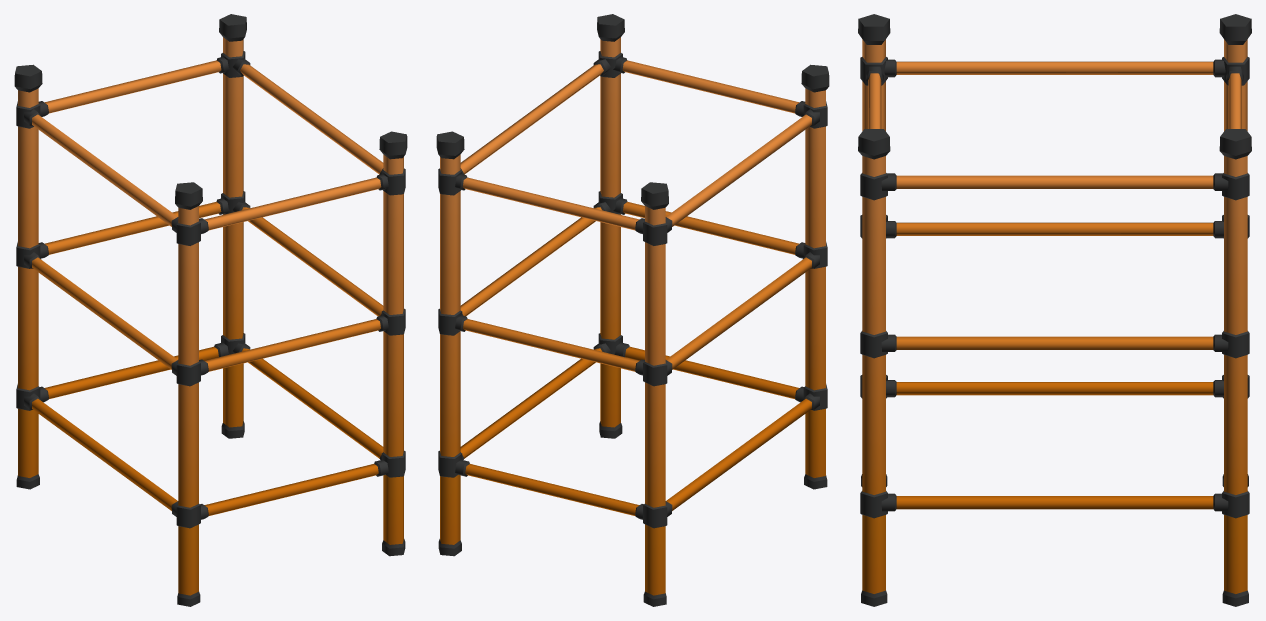
The model's file is Scaffolding_B_1.glb.
The picture shows the model from 3 angles, left to right: view 1: azimuth 30°, elevation 25°; view 2: azimuth 150°, elevation 25°; view 3: azimuth 270°, elevation 25°; orthographic projection. The views are drawn at different scales.
Visible parts, largest first — view 1: Scaffolding_B_1; view 2: Scaffolding_B_1; view 3: Scaffolding_B_1.
Part boxes in pixels (x1,y1,x2,y2): Scaffolding_B_1: (14,14,407,606); Scaffolding_B_1: (436,14,829,606); Scaffolding_B_1: (858,14,1251,606).
Size of the model in its own units: 1.67 by 2.85 by 2.18.
2 materials, 2 textured.
